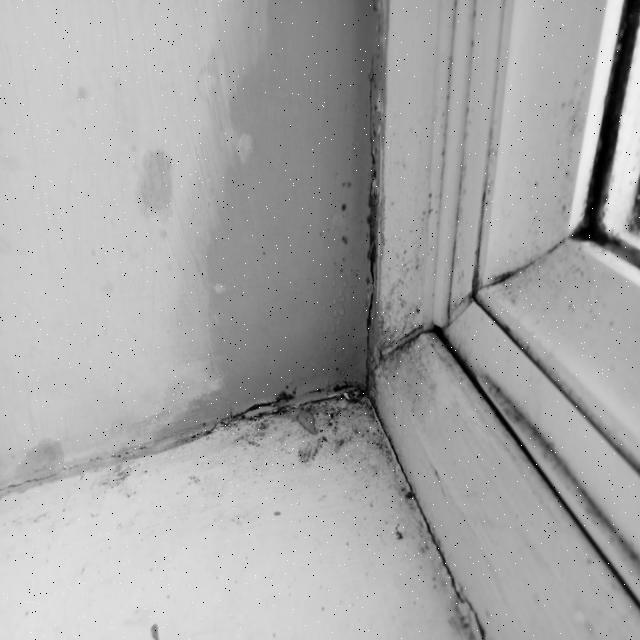stain marks: (218, 0, 385, 439), (0, 370, 217, 490), (125, 126, 188, 251)
